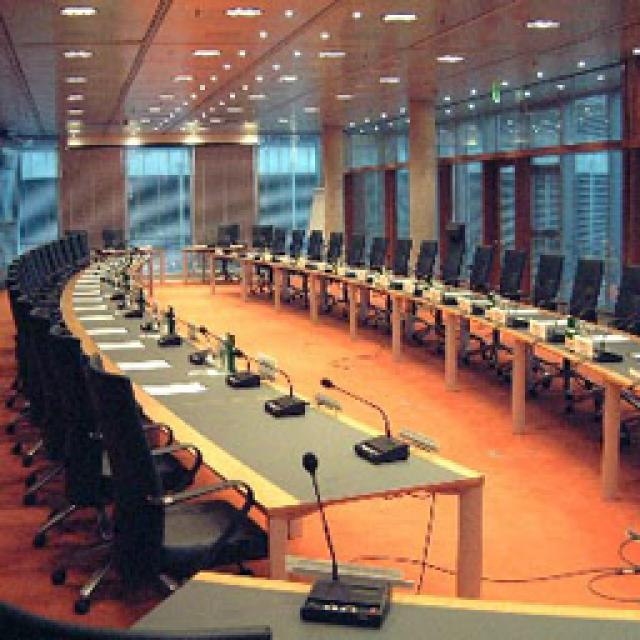door bars: (75, 142, 128, 635), (520, 225, 565, 635)
fire alarm: (582, 145, 632, 192)
floor -X: (85, 322, 540, 635)
light fixture: (54, 0, 522, 30), (210, 162, 425, 182), (262, 218, 395, 230)
poster crop: (0, 196, 72, 528), (202, 285, 230, 418)
